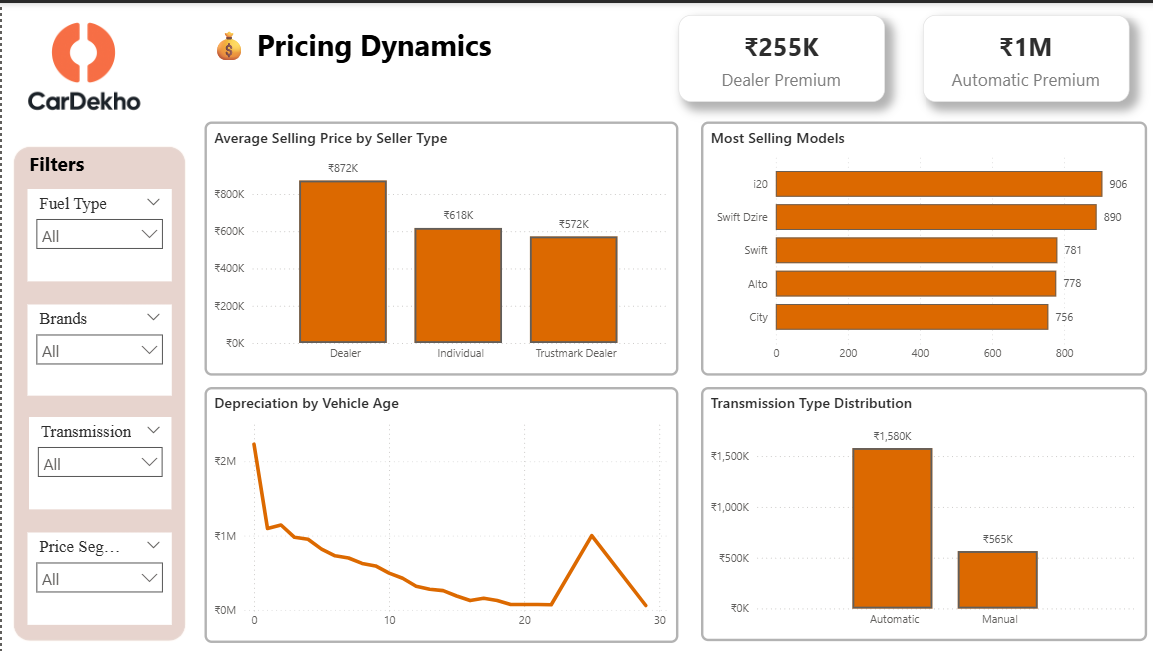

The page's visual inventory and layout, read from the dashboard file:
{"tool":"powerbi","page":{"name":"Page 2","canvas":[1280,720],"ordinal":1},"visuals":[{"type":"image","box":[0,0,180.5,144.8],"z":0},{"type":"shape","box":[11.9,157.8,192.2,548.3],"z":0,"group":"g1"},{"type":"barChart","title":"Most Selling Models","fields":{"Category":["Fact_Sales.model"],"Y":["CountNonNull(Fact_Sales.selling_price)"]},"box":[771.3,130.9,492.6,280.9],"z":1000},{"type":"lineChart","title":"Depreciation by Vehicle Age","fields":{"Category":["Fact_Sales.vehicle_age"],"Y":["_Measures.Average Selling Price"]},"box":[223.6,424.8,523.6,282.5],"z":2000},{"type":"clusteredColumnChart","title":"Transmission Type Distribution","fields":{"Category":["Fact_Sales.transmission_type"],"Y":["_Measures.Average Selling Price"]},"box":[771.3,424.8,492.6,280.9],"z":3000},{"type":"textbox","box":[11.9,157.8,97.7,44.6],"z":4000,"group":"g1"},{"type":"clusteredColumnChart","fields":{"Category":["Fact_Sales.seller_type"],"Y":["_Measures.Average Selling Price"]},"box":[223.6,130.9,523.6,280.9],"z":4000},{"type":"textbox","box":[223.6,18.2,437.3,76.2],"z":5000},{"type":"card","fields":{"Values":["_Measures.Dealer Premium"]},"box":[746.6,13,227.7,96],"z":6000},{"type":"card","fields":{"Values":["_Measures.Automatic Premium"]},"box":[1016.6,13,227.7,96],"z":7000},{"type":"group","id":"g1","title":"Group 1","box":[11.9,157.8,192.2,548.3],"z":8000},{"type":"slicer","fields":{"Values":["Fact_Sales.fuel_type"]},"box":[28.5,206.2,159,102.3],"z":9000,"group":"g1"},{"type":"slicer","fields":{"Values":["Fact_Sales.brand"]},"box":[28.5,332.6,159,100.4],"z":10000,"group":"g1"},{"type":"slicer","fields":{"Values":["Fact_Sales.transmission_type"]},"box":[30.1,457.2,157.4,102.3],"z":11000,"group":"g1"},{"type":"slicer","fields":{"Values":["Fact_Sales.price_segment"]},"box":[28.5,585.6,159,102.3],"z":12000,"group":"g1"}]}

Visuals, with their boxes in screenshot pixels (x1, y1, x2, y2), scaled from the page's 1280x720 canvas onto the 1153x651 screenshot:
image: 0/0/163/131
shape: 11/143/184/638
"Most Selling Models" barChart: 695/118/1138/372
"Depreciation by Vehicle Age" lineChart: 201/384/673/640
"Transmission Type Distribution" clusteredColumnChart: 695/384/1138/638
textbox: 11/143/99/183
clusteredColumnChart - Fact_Sales.seller_type x _Measures.Average Selling Price: 201/118/673/372
textbox: 201/16/595/85
card - _Measures.Dealer Premium: 673/12/878/99
card - _Measures.Automatic Premium: 916/12/1121/99
"Group 1" group: 11/143/184/638
slicer - Fact_Sales.fuel_type: 26/186/169/279
slicer - Fact_Sales.brand: 26/301/169/392
slicer - Fact_Sales.transmission_type: 27/413/169/506
slicer - Fact_Sales.price_segment: 26/529/169/622
